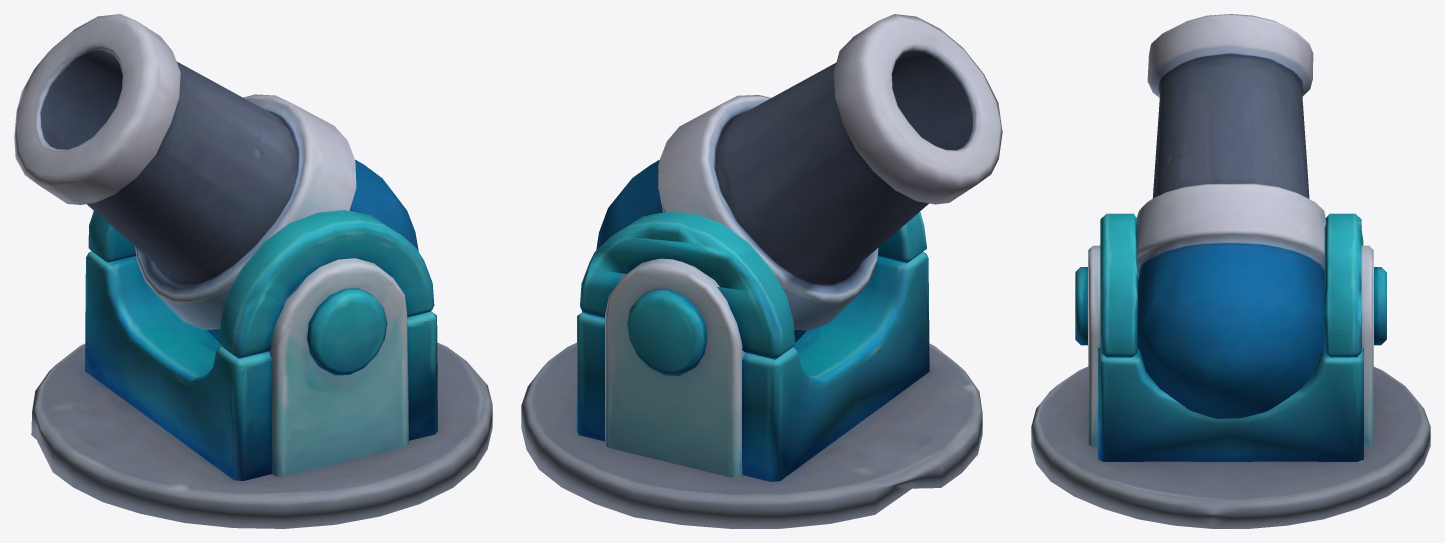
The model's file is weapon_mortar.glb.
3 renders of one model, left to right at view 1: azimuth 30°, elevation 25°; view 2: azimuth 150°, elevation 25°; view 3: azimuth 270°, elevation 25°, orthographic. The views are drawn at different scales.
Parts seen in each view (by area): view 1: geometry_0; view 2: geometry_0; view 3: geometry_0.
Boxes of the visible parts, x1,y1,x2,y2 form: geometry_0: (14, 14, 492, 528); geometry_0: (521, 14, 1002, 528); geometry_0: (1031, 14, 1430, 528).
Size of the model in its own units: 0.9531 by 0.9331 by 0.894.
Materials: 1 (1 with a texture image).
